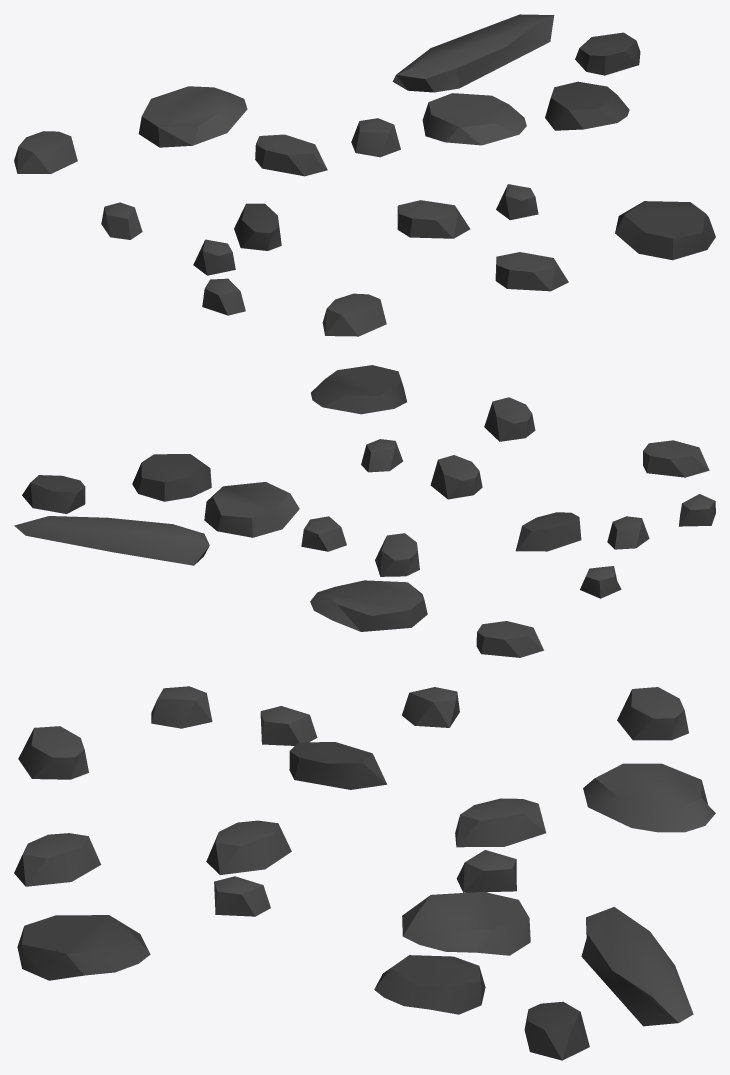
Rendered from ea_swamp_stones_04e_pre_lev1.glb.
The picture shows the model from 3 angles, top to bottom: view 1: azimuth 30°, elevation 25°; view 2: azimuth 150°, elevation 25°; view 3: azimuth 270°, elevation 25°; orthographic projection. The views are drawn at different scales.
Visible parts, largest first — view 1: ea_swamp_stones_04e_pre_lev1; view 2: ea_swamp_stones_04e_pre_lev1; view 3: ea_swamp_stones_04e_pre_lev1.
Boxes of the visible parts, x1,y1,x2,y2 form: ea_swamp_stones_04e_pre_lev1: (14,14,715,336); ea_swamp_stones_04e_pre_lev1: (14,365,715,657); ea_swamp_stones_04e_pre_lev1: (14,686,715,1060).
Size of the model in its own units: 4.37 by 0.1603 by 3.64.
1 material, 1 textured.
